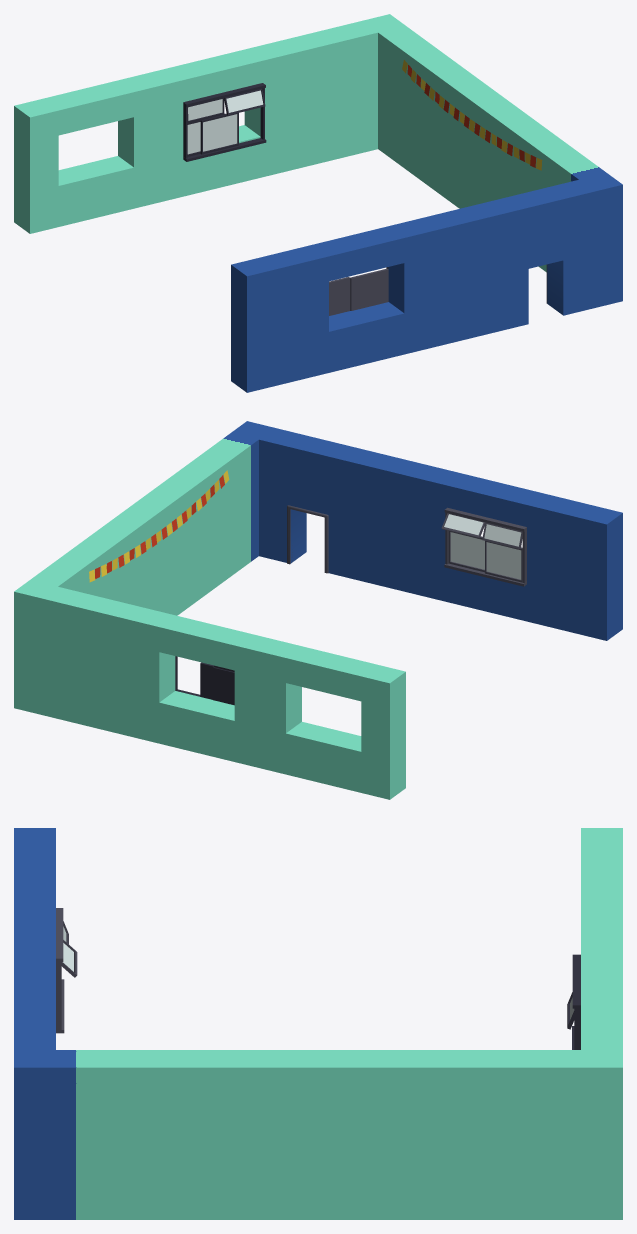
Rendered from pared.fbx.
3 renders of one model, top to bottom at view 1: azimuth 30°, elevation 25°; view 2: azimuth 150°, elevation 25°; view 3: azimuth 270°, elevation 25°, orthographic. The views are drawn at different scales.
Parts seen in each view (by area): view 1: pared; view 2: pared; view 3: pared.
Boxes of the visible parts, left/top/right/bottom form: pared: left=14, top=14, right=622, bottom=392; pared: left=14, top=421, right=622, bottom=799; pared: left=14, top=828, right=622, bottom=1219.
Size of the model in its own units: 2700 by 800 by 2900.
